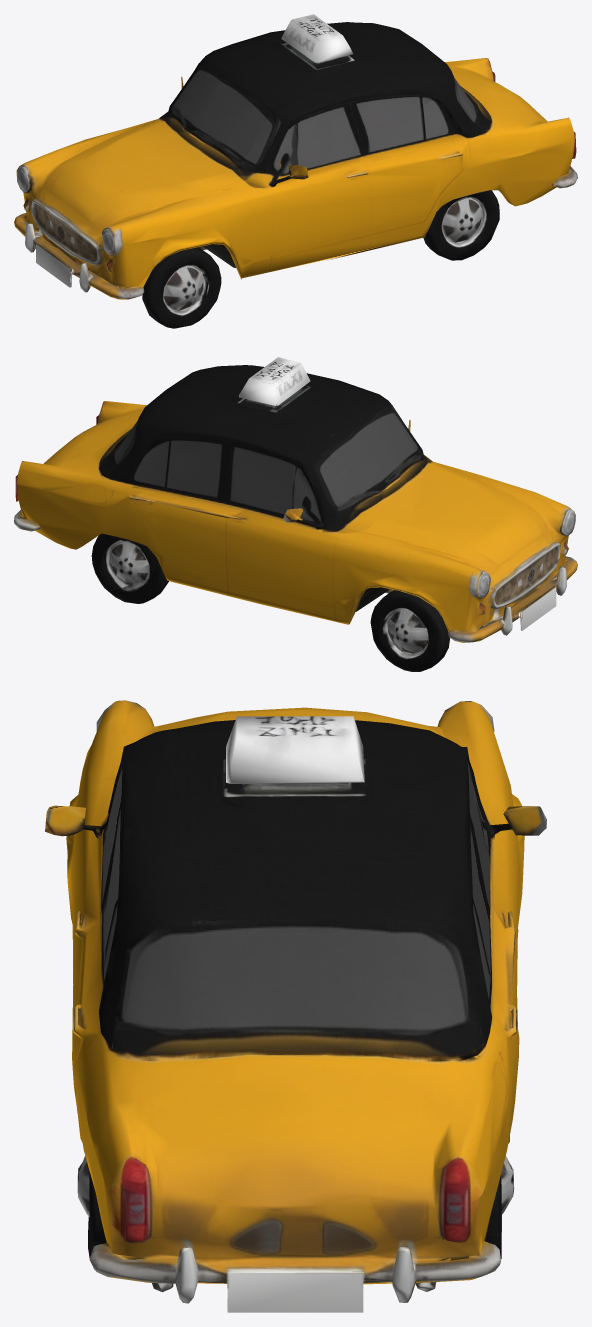
Rendered from taxi.glb.
3 views of the same model, one above another, from view 1: azimuth 30°, elevation 25°; view 2: azimuth 150°, elevation 25°; view 3: azimuth 270°, elevation 25° (orthographic). The views are drawn at different scales.
Bounding box in the file's own units: 1.9 × 0.815 × 0.8453.
1 material, 1 textured.
